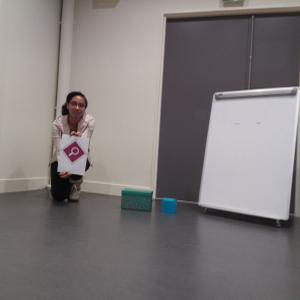search: (63, 140, 85, 163)
